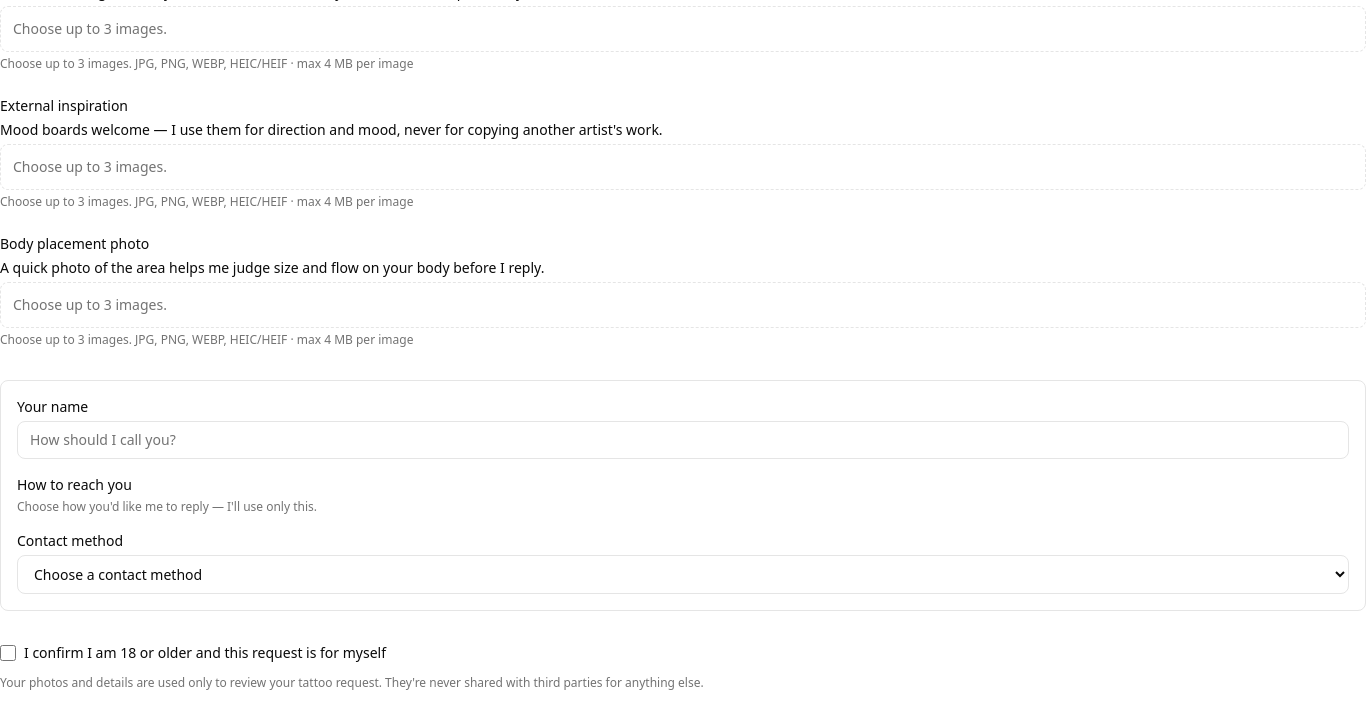
Test case: RequestForm – contact method select › reveals exactly one value field for whatsapp
The image size is (1366, 722).
(page scrolled)
Select "WhatsApp" in the dropdown labelled "Contact method" at (683, 574), box [17, 555, 1349, 594]
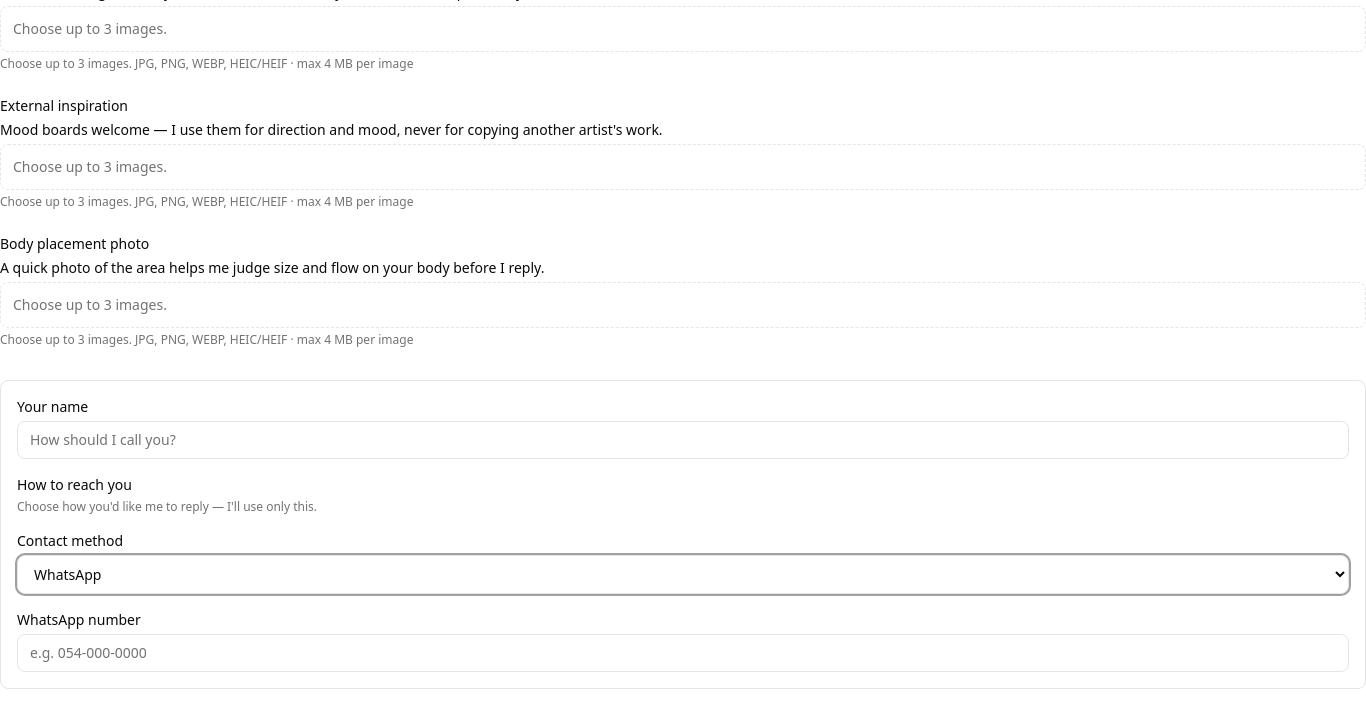
Now the field labelled "WhatsApp number" is shown, box [17, 634, 1349, 672]
